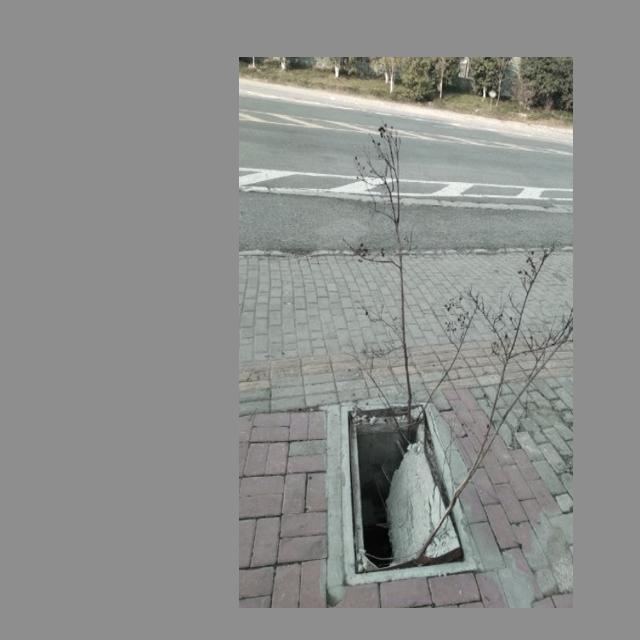broke: (339, 402, 479, 586)
